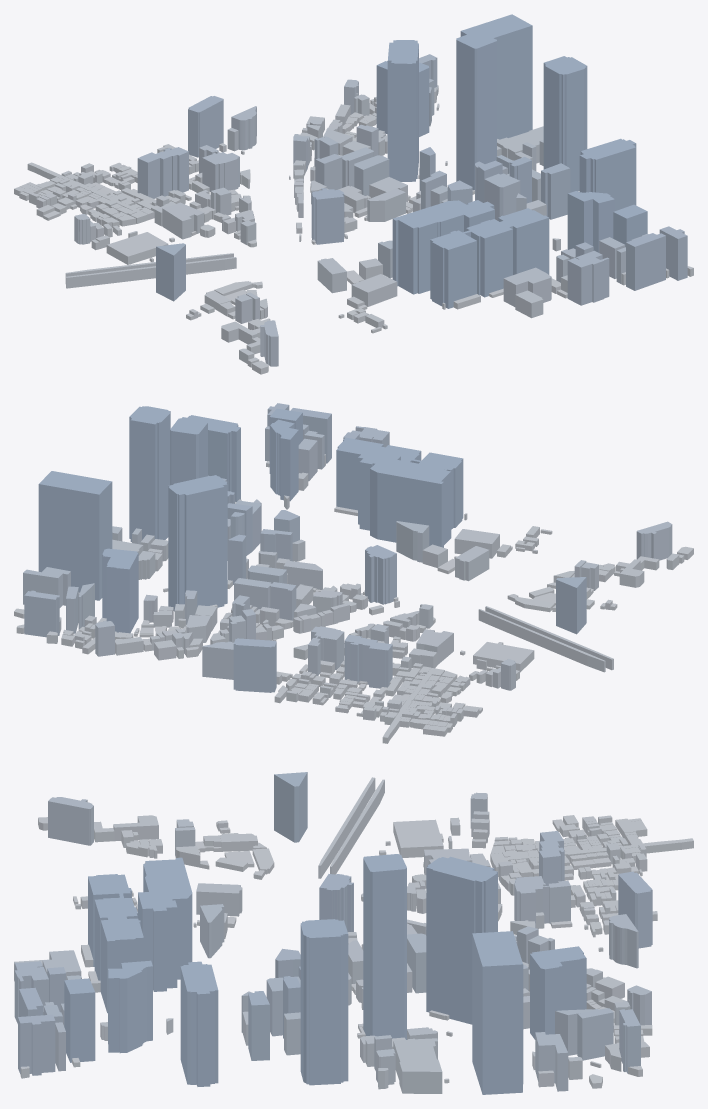
3 renders of one model, top to bottom at view 1: azimuth 30°, elevation 25°; view 2: azimuth 150°, elevation 25°; view 3: azimuth 270°, elevation 25°, orthographic. The views are drawn at different scales.
Bounding box in the file's own units: 580 × 155 × 547.
